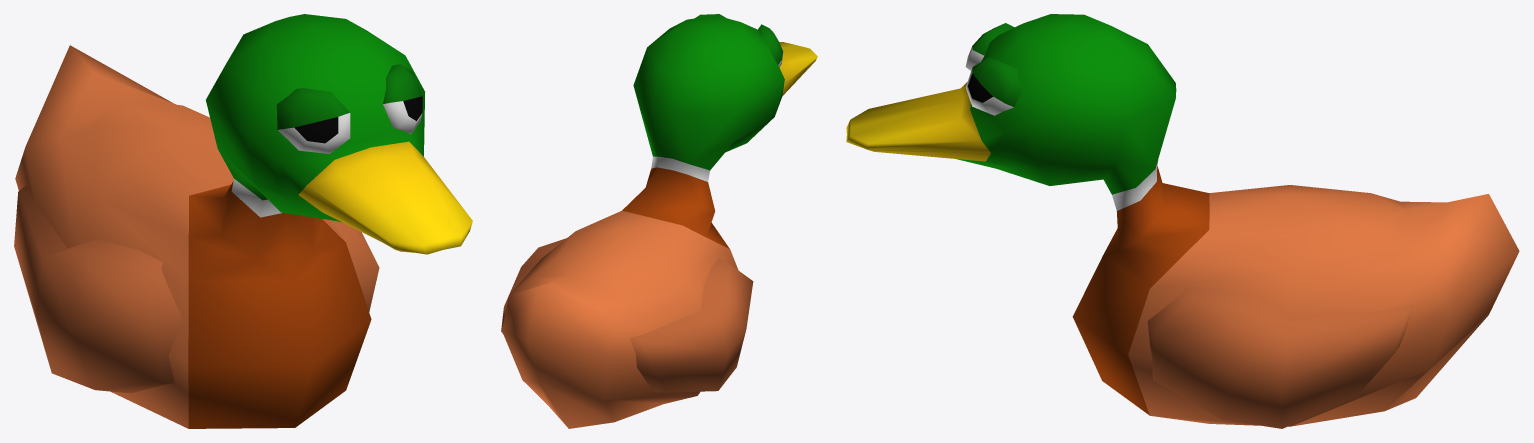
The model's file is PatoSonso.fbx.
3 views of the same model, side by side, from view 1: azimuth 30°, elevation 25°; view 2: azimuth 150°, elevation 25°; view 3: azimuth 270°, elevation 25° (orthographic). The views are drawn at different scales.
Visible parts, largest first — view 1: PatoSonso; view 2: PatoSonso; view 3: PatoSonso.
Part boxes in pixels (bbox=[...]): PatoSonso: bbox=[14, 14, 472, 428]; PatoSonso: bbox=[501, 14, 817, 428]; PatoSonso: bbox=[846, 14, 1519, 428].
Size of the model in its own units: 37.46 by 53.49 by 83.1.
